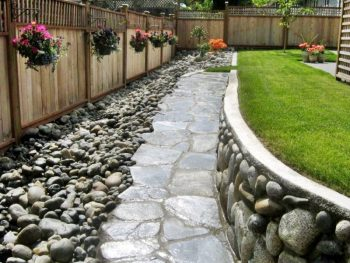grass: (238, 49, 348, 193)
rock: (0, 122, 131, 260), (69, 75, 164, 124)
